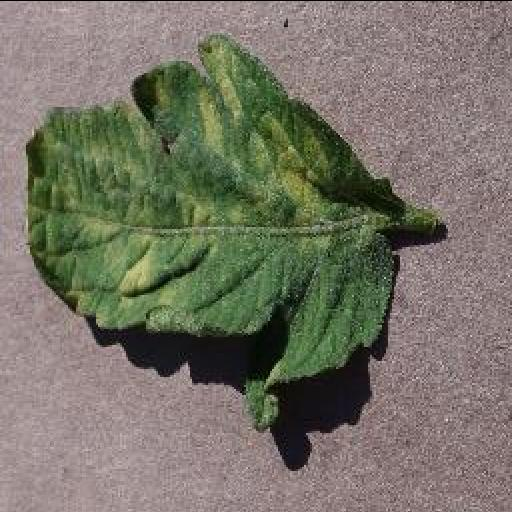disease_tomato: (24, 36, 398, 433)
